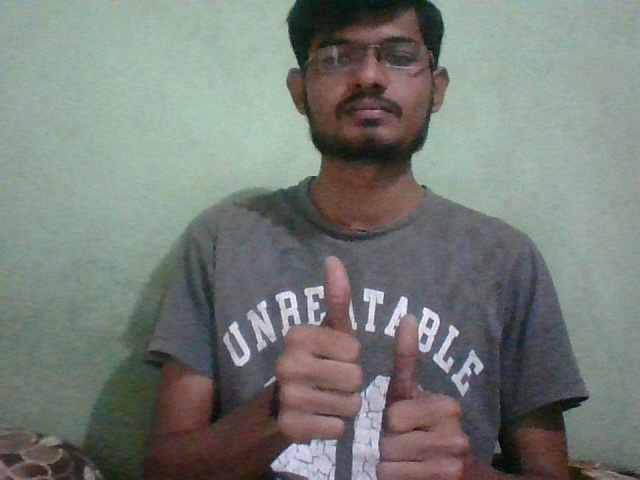which: (259, 249, 488, 479)
